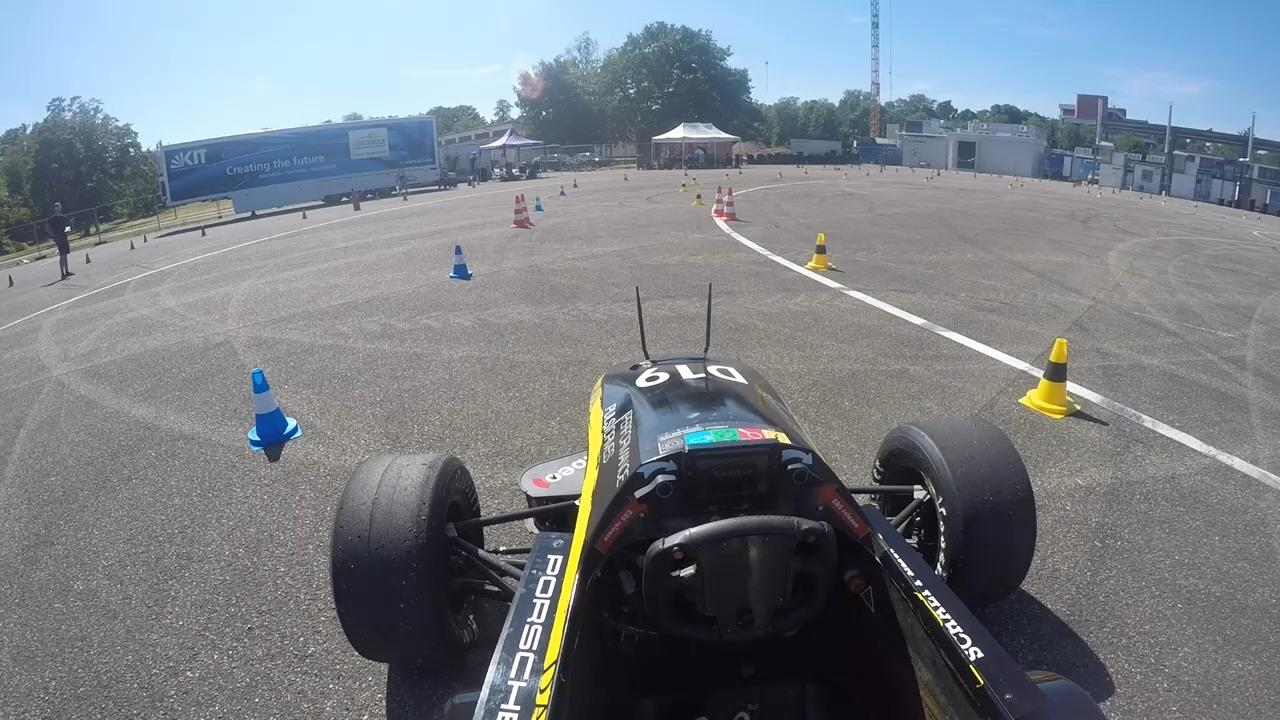blue_cone: (234, 369, 303, 449), (444, 244, 477, 279), (531, 194, 545, 214), (558, 184, 567, 197), (572, 178, 579, 190)
large_orange_cone: (722, 186, 740, 222), (511, 196, 529, 229), (711, 184, 726, 217), (518, 193, 531, 227)
yellow_cone: (1017, 328, 1082, 420), (801, 230, 834, 270), (690, 190, 706, 207), (678, 180, 689, 193), (690, 175, 699, 188)
